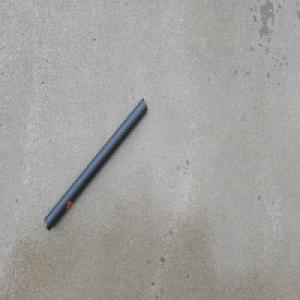LuggagePart: (43, 97, 148, 232)
